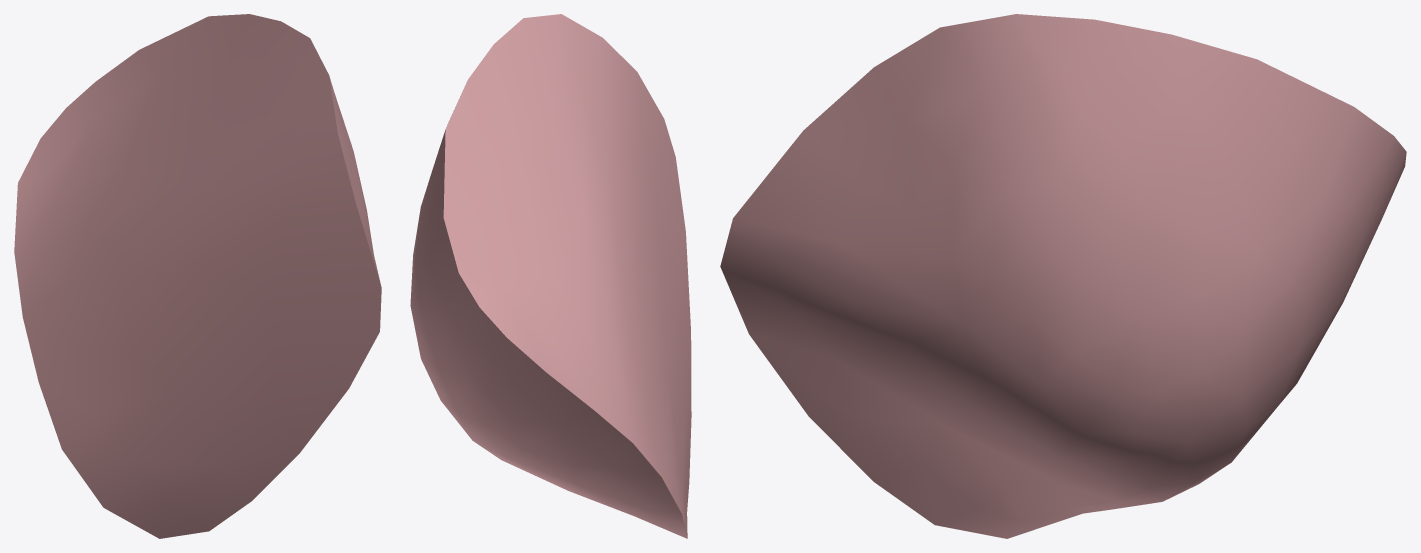
The model's file is fma49469_mm1605m.glb.
3 renders of one model, left to right at view 1: azimuth 30°, elevation 25°; view 2: azimuth 150°, elevation 25°; view 3: azimuth 270°, elevation 25°, orthographic. The views are drawn at different scales.
Visible parts, largest first — view 1: FMA49469_MM1605M; view 2: FMA49469_MM1605M; view 3: FMA49469_MM1605M.
Part boxes in pixels (<box>): FMA49469_MM1605M: <box>14,14,381,538</box>; FMA49469_MM1605M: <box>410,14,691,538</box>; FMA49469_MM1605M: <box>720,14,1406,538</box>.
Size of the model in its own units: 0.0107 by 0.0182 by 0.0181.
